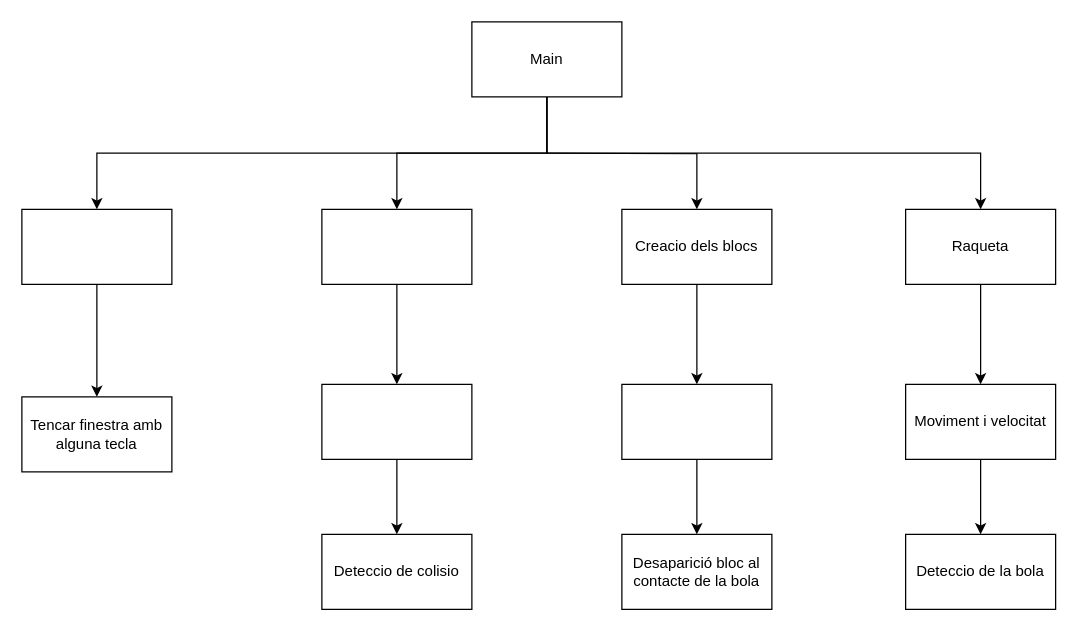
The diagram is 1078 pixels wide and 631 high, and some of its shapes have lost their labels. The box of each missing label's shape, as (x1, y1, x2, y2) in pixels:
Creacio bola: (321, 208, 472, 284)
Creacio finestra: (21, 208, 172, 284)
Creacio Moviment: (321, 383, 472, 459)
Deteccio bola: (621, 383, 772, 459)
